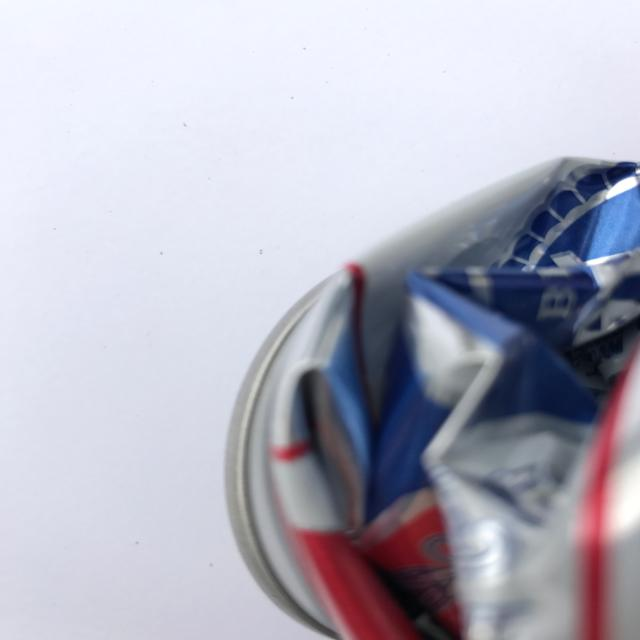metal: (223, 155, 640, 640)
